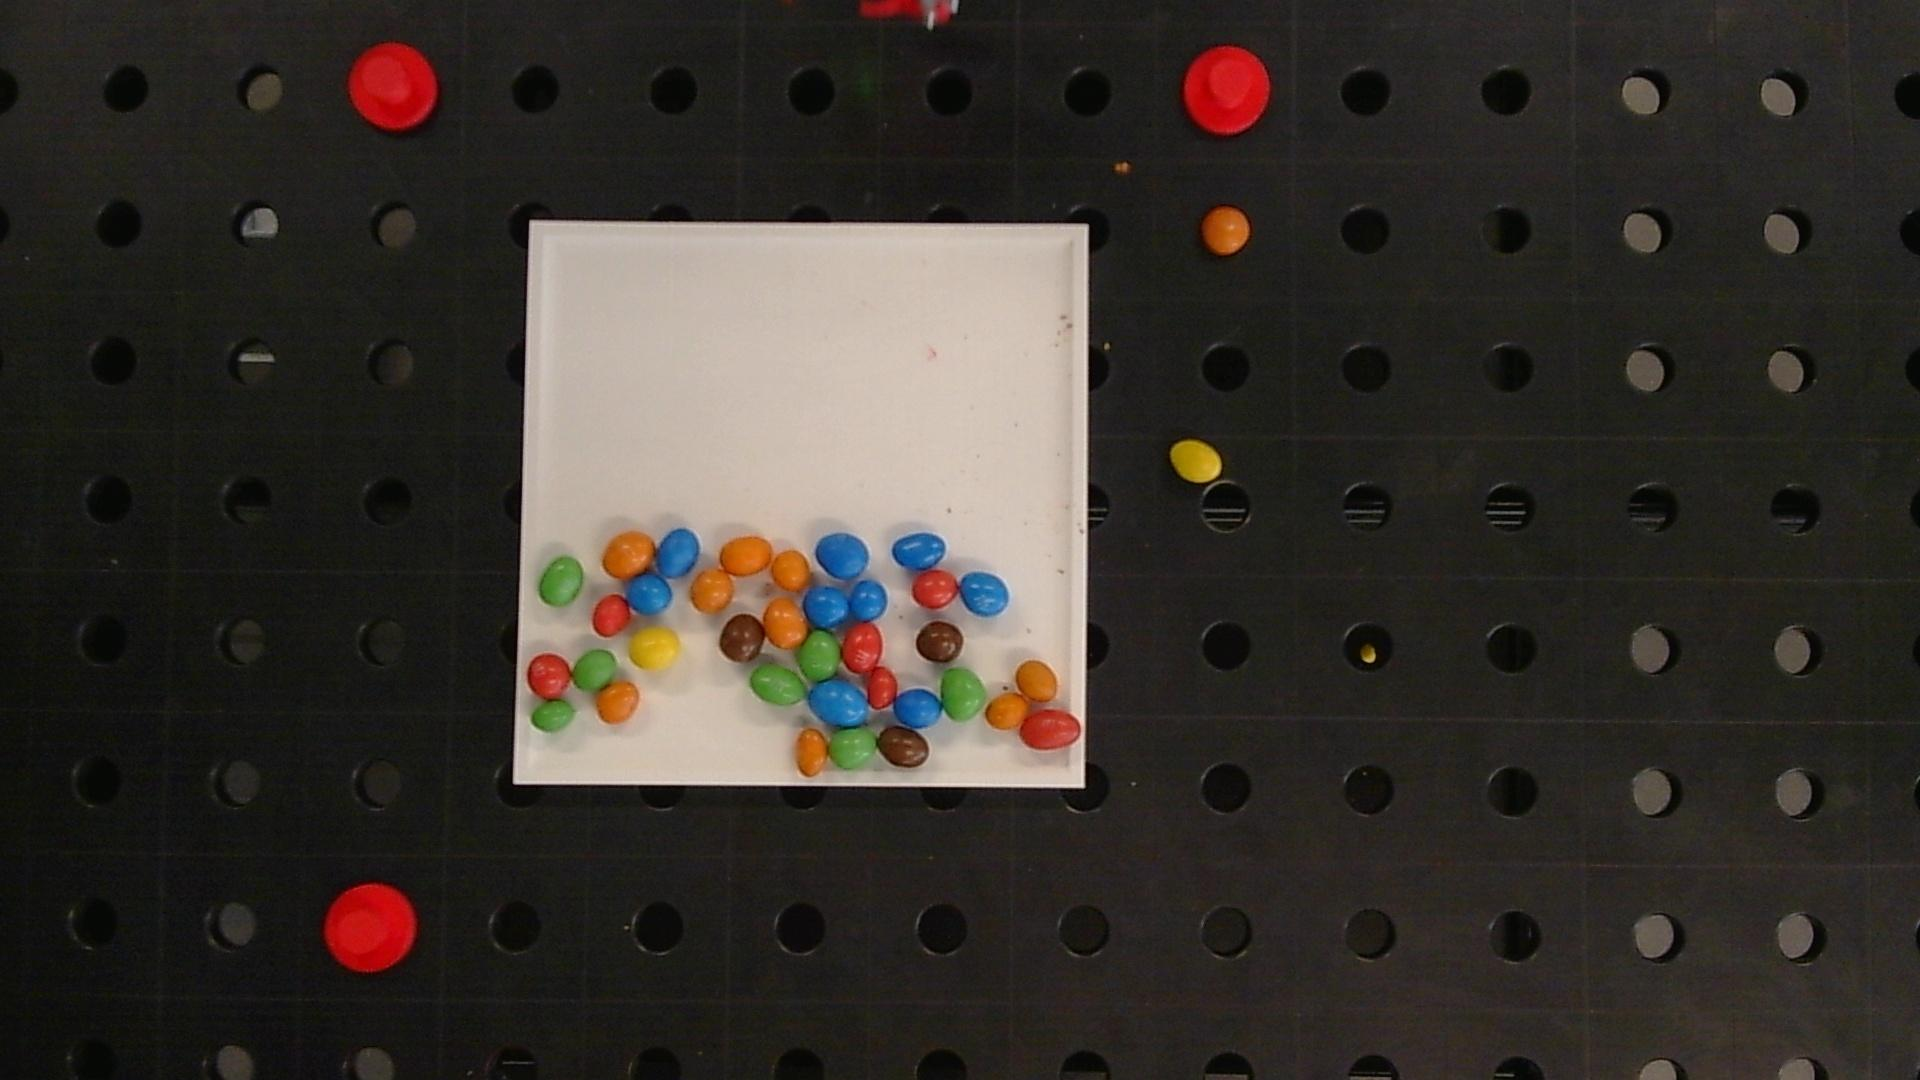blue: (810, 678, 869, 727), (815, 531, 869, 579), (960, 571, 1009, 616), (657, 527, 700, 578), (891, 531, 947, 570), (893, 688, 943, 728), (804, 585, 848, 628), (628, 574, 673, 615), (849, 580, 887, 620)
brown: (720, 613, 765, 663), (877, 725, 930, 767), (915, 621, 964, 663)
green: (942, 667, 986, 721), (750, 665, 807, 705), (539, 556, 583, 605), (828, 728, 878, 770), (798, 630, 840, 680), (574, 650, 616, 691), (530, 700, 576, 733)
orange: (601, 531, 655, 579), (1203, 206, 1250, 256), (764, 599, 807, 647), (720, 535, 773, 575), (596, 680, 640, 724), (691, 568, 733, 612), (1015, 659, 1058, 703), (771, 550, 810, 591), (985, 694, 1029, 729), (796, 728, 828, 777)
red: (1018, 711, 1081, 749), (527, 653, 572, 699), (843, 622, 882, 673), (911, 571, 959, 609), (592, 595, 632, 637), (868, 666, 898, 708)
yellow: (1168, 440, 1222, 483), (629, 626, 680, 670)
